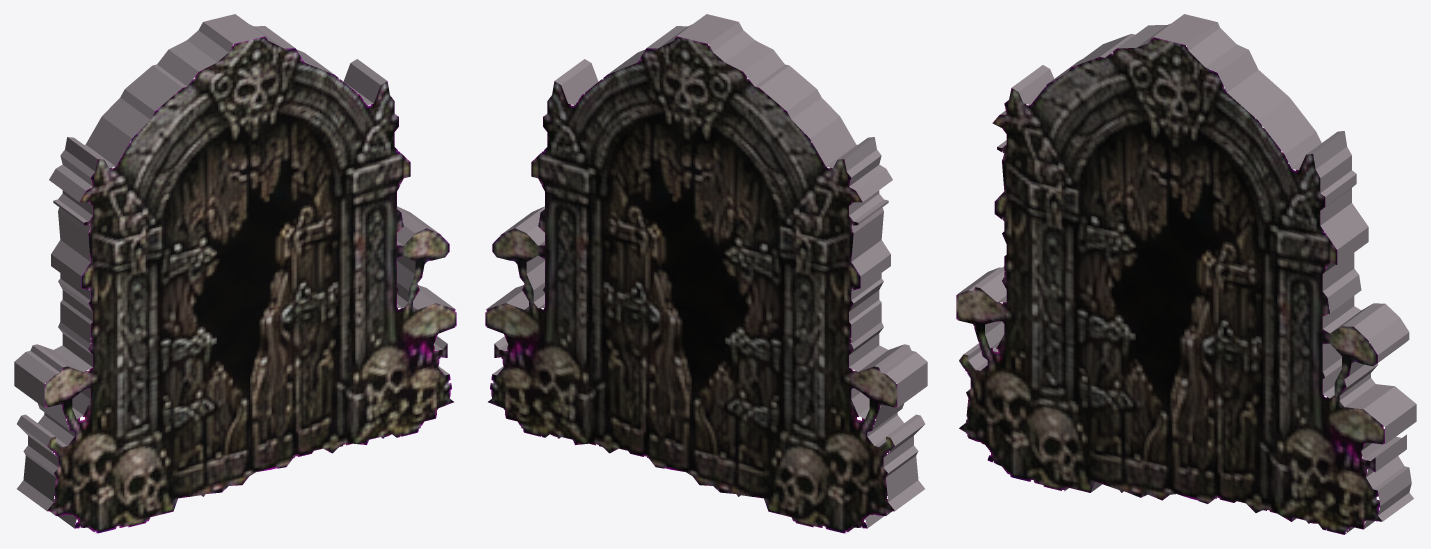
Rendered from gloom-obj-door-broken-alt.glb.
The picture shows the model from 3 angles, left to right: view 1: azimuth 30°, elevation 25°; view 2: azimuth 150°, elevation 25°; view 3: azimuth 330°, elevation 25°; orthographic projection. The views are drawn at different scales.
Parts seen in each view (by area): view 1: painted-faces, side-shell; view 2: painted-faces, side-shell; view 3: painted-faces, side-shell.
Part boxes in pixels (bbox=[...]): painted-faces: bbox=[44, 36, 456, 533]; side-shell: bbox=[14, 14, 455, 533]; painted-faces: bbox=[485, 36, 897, 533]; side-shell: bbox=[486, 14, 927, 533]; painted-faces: bbox=[956, 37, 1384, 534]; side-shell: bbox=[957, 14, 1416, 534].
Size of the model in its own units: 0.9421 by 1 by 0.12.
2 materials, 1 textured.
